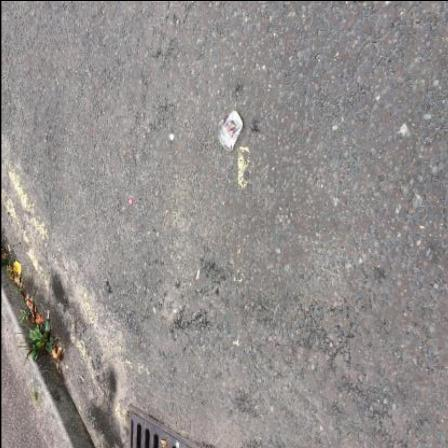Cigarette: (47, 311, 50, 319), (80, 376, 84, 381)
Cup: (217, 111, 243, 152)
Other plastic: (128, 199, 132, 205)
